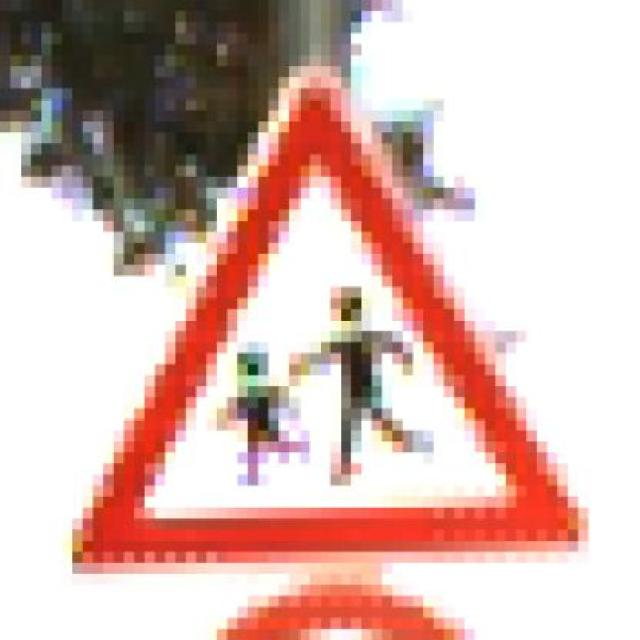Beware of children: (51, 55, 588, 596)
